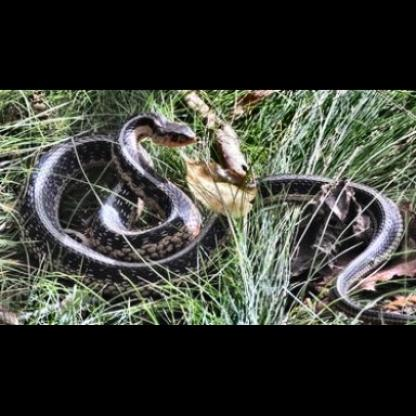Snake: (6, 102, 413, 310)
